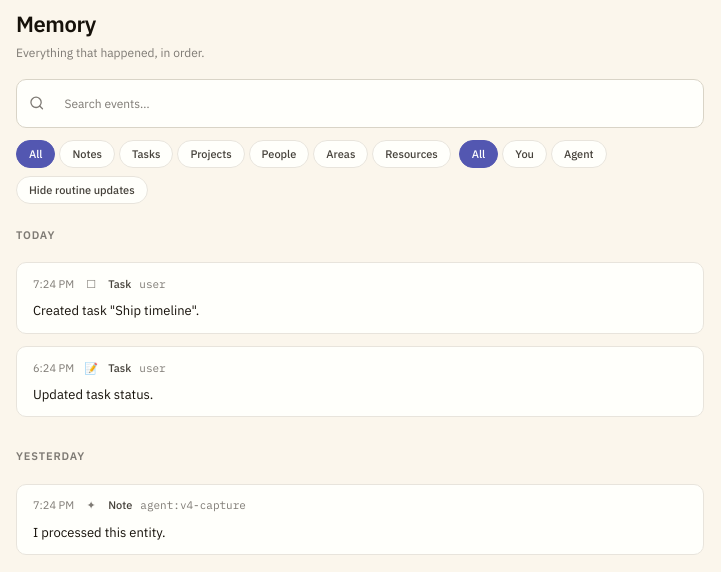
Test: V5Memory › toggles hiding routine bookkeeping narrations client-side
expect the text "Updated task status." is shown: met, box [33, 386, 153, 403]
Click the button "Hide routine updates" at (82, 190), box [16, 176, 148, 204]
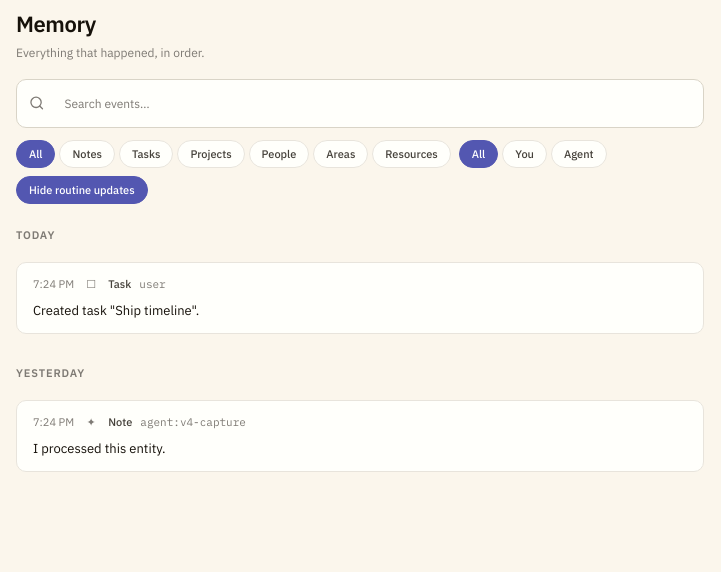
expect the text "Created task \"Ship timeline\"." is shown: met, box [33, 302, 199, 319]
expect the text "Updated task status" is gone: met
Click the button "Hide routine updates" at (82, 190), box [16, 176, 148, 204]
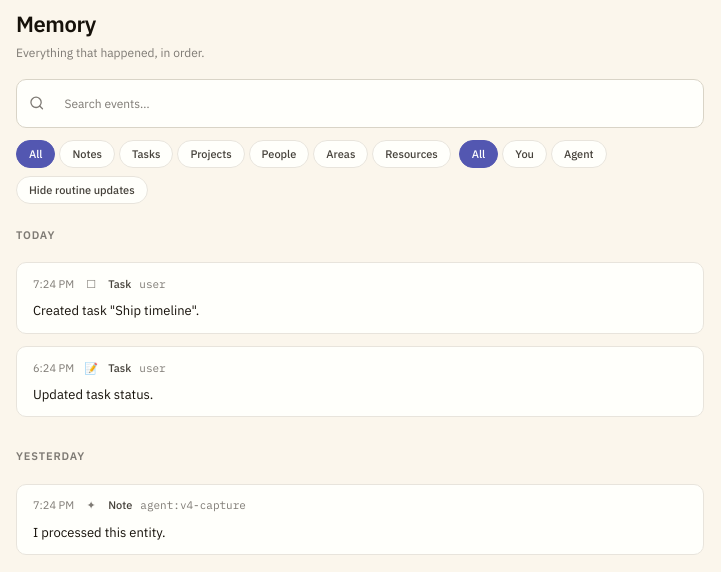
expect the text "Updated task status." is shown: met, box [33, 386, 153, 403]
